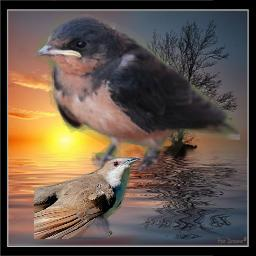Cuckoo: (34, 157, 141, 239)
Swallow: (34, 14, 240, 172)
